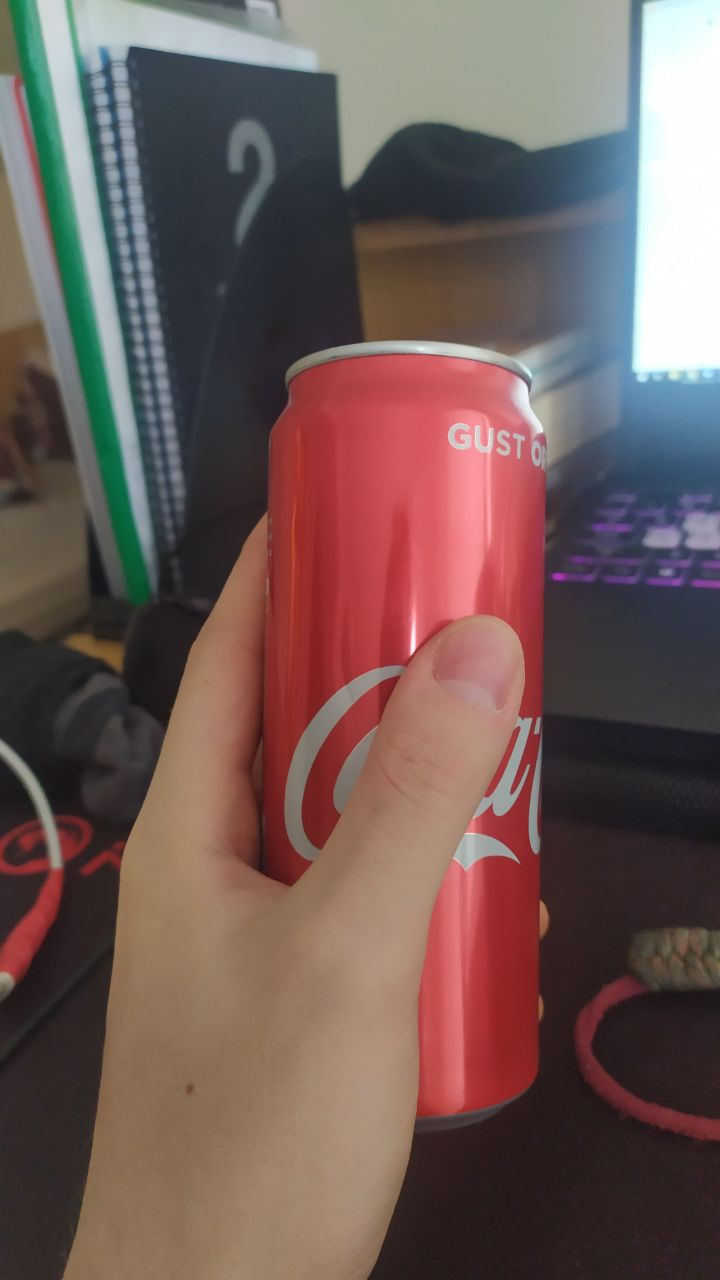Can: (245, 332, 548, 1128)
